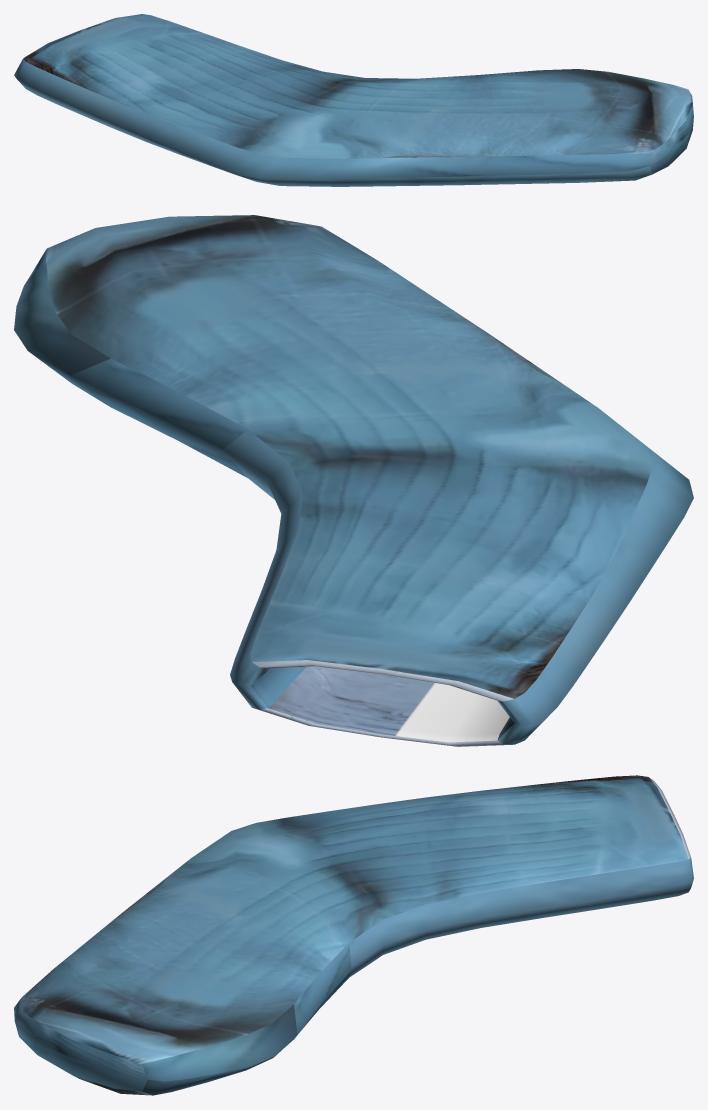
File: Medias2.0.fbx
3 renders of one model, top to bottom at view 1: azimuth 30°, elevation 25°; view 2: azimuth 150°, elevation 25°; view 3: azimuth 270°, elevation 25°, orthographic. The views are drawn at different scales.
Parts seen in each view (by area): view 1: Media; view 2: Media; view 3: Media.
Boxes of the visible parts, x1,y1,x2,y2 form: Media: (14,14,693,186); Media: (14,215,693,746); Media: (14,775,693,1095).
Bounding box in the file's own units: 331 × 27.62 × 322.
Materials: 1 (1 with a texture image).
